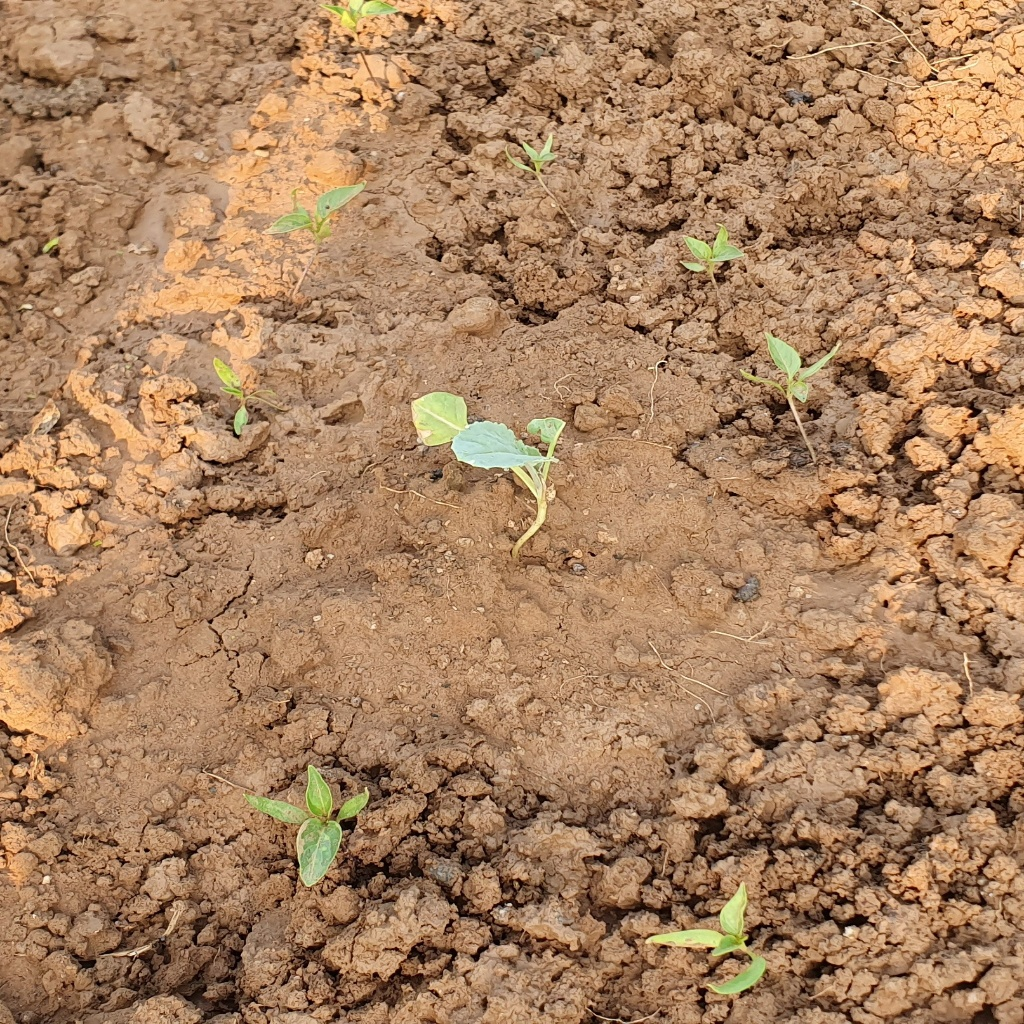crop: (407, 388, 566, 554)
weed: (269, 767, 372, 868), (668, 888, 777, 983), (750, 340, 842, 409), (275, 192, 353, 249), (211, 358, 263, 435), (674, 230, 751, 282), (319, 1, 400, 33), (501, 142, 566, 181)
